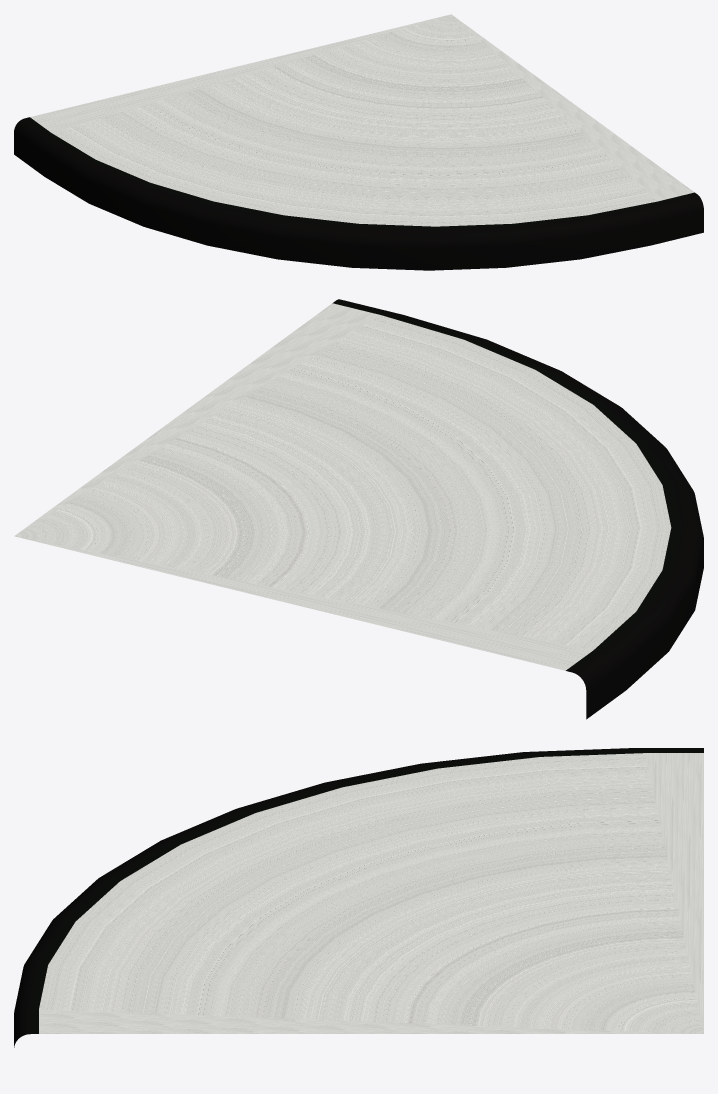
File: curva para todas las esquinas prueba.fbx
3 renders of one model, top to bottom at view 1: azimuth 30°, elevation 25°; view 2: azimuth 150°, elevation 25°; view 3: azimuth 270°, elevation 25°, orthographic. The views are drawn at different scales.
Visible parts, largest first — view 1: Callle 1 carril con un lugar para estacionar.001; view 2: Callle 1 carril con un lugar para estacionar.001; view 3: Callle 1 carril con un lugar para estacionar.001.
Boxes of the visible parts, x1,y1,x2,y2 form: Callle 1 carril con un lugar para estacionar.001: (14,14,703,270); Callle 1 carril con un lugar para estacionar.001: (14,299,703,719); Callle 1 carril con un lugar para estacionar.001: (14,748,703,1047).
Size of the model in its own units: 258 by 18.89 by 258.
2 materials, 2 textured.
